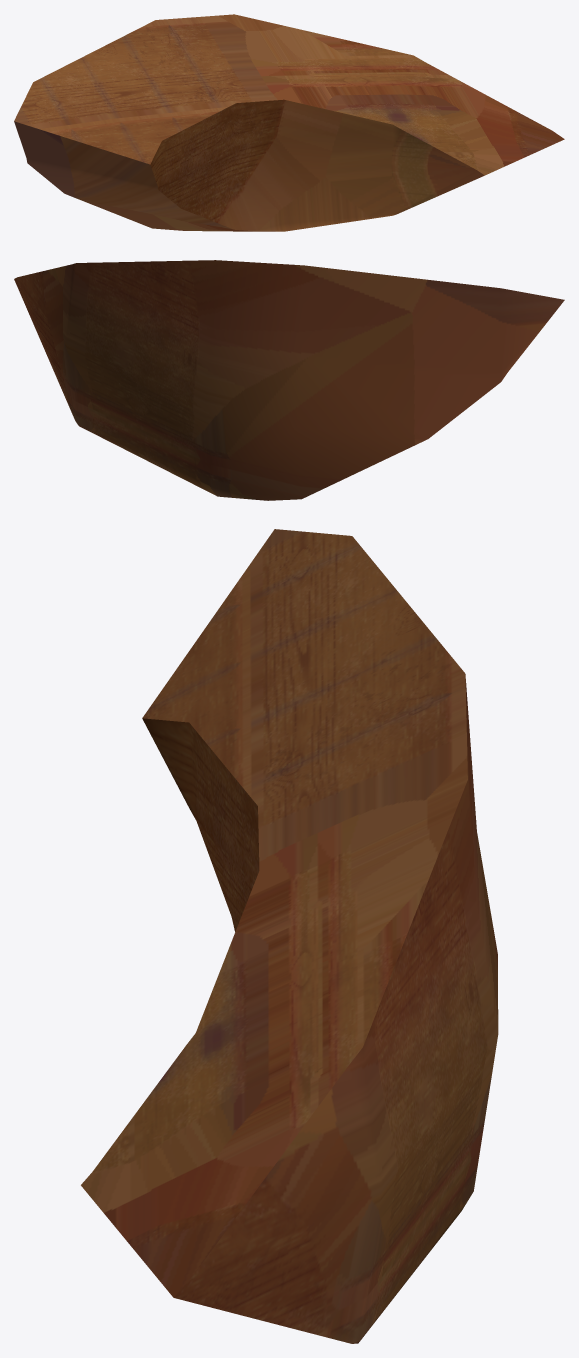
The model's file is brokebottle2-7.fbx.
The picture shows the model from 3 angles, top to bottom: view 1: azimuth 30°, elevation 25°; view 2: azimuth 150°, elevation 25°; view 3: azimuth 270°, elevation 25°; orthographic projection. The views are drawn at different scales.
Parts seen in each view (by area): view 1: polySurface12; view 2: polySurface12; view 3: polySurface12.
Boxes of the visible parts, bbox=[...] form: polySurface12: bbox=[14, 14, 564, 231]; polySurface12: bbox=[14, 260, 564, 500]; polySurface12: bbox=[81, 529, 498, 1343].
Bounding box in the file's own units: 33.05 × 13.82 × 11.37.
